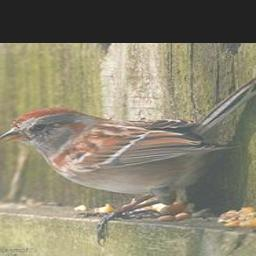Sparrow: (0, 72, 256, 245)
